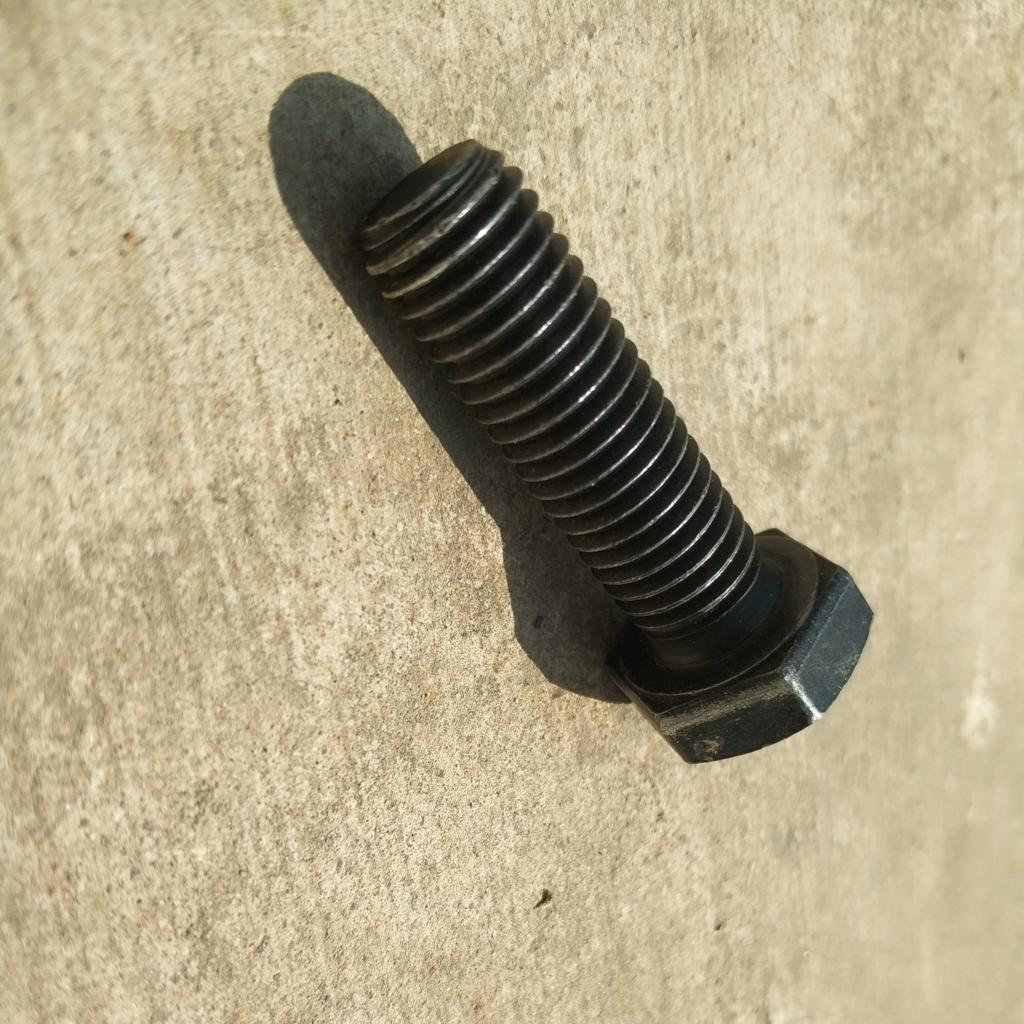screwtype2black: (346, 135, 878, 778)
